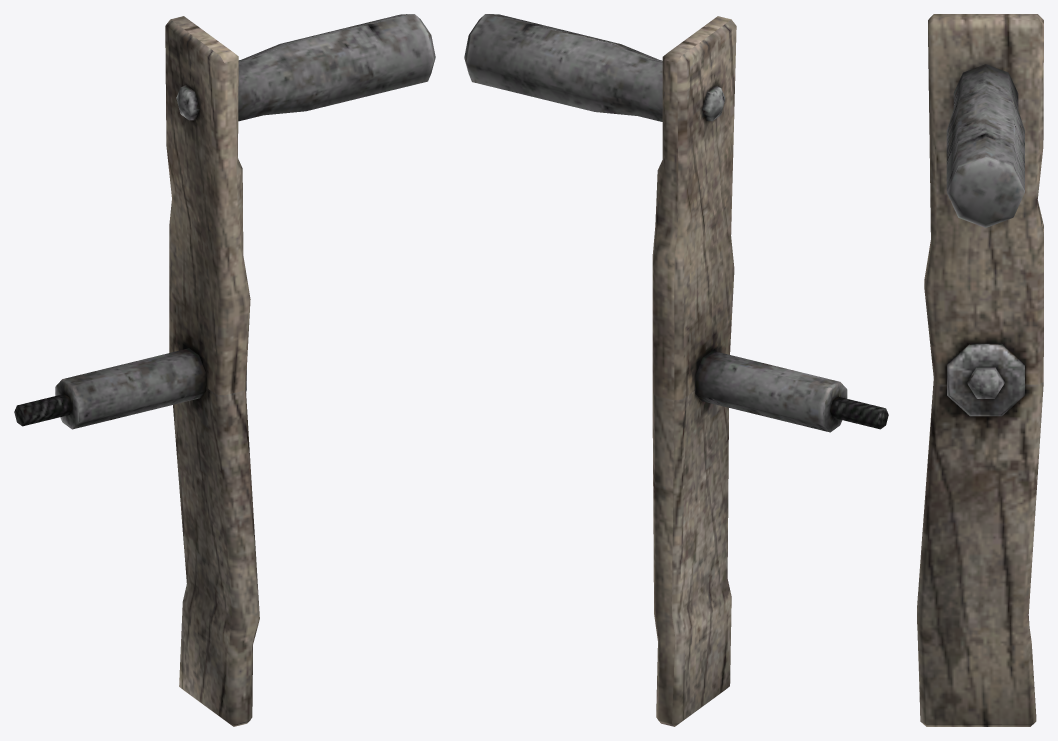
Rendered from gameplay_crank_no_mount.dae.
3 views of the same model, side by side, from view 1: azimuth 30°, elevation 25°; view 2: azimuth 150°, elevation 25°; view 3: azimuth 270°, elevation 25° (orthographic). The views are drawn at different scales.
Parts seen in each view (by area): view 1: crank_wood_crank; view 2: crank_wood_crank; view 3: crank_wood_crank.
Part boxes in pixels (left/top/right/bottom): crank_wood_crank: left=14, top=14, right=435, bottom=726; crank_wood_crank: left=464, top=14, right=888, bottom=726; crank_wood_crank: left=917, top=14, right=1043, bottom=726.
Size of the model in its own units: 0.2815 by 0.0739 by 0.45.
1 material, 1 textured.
